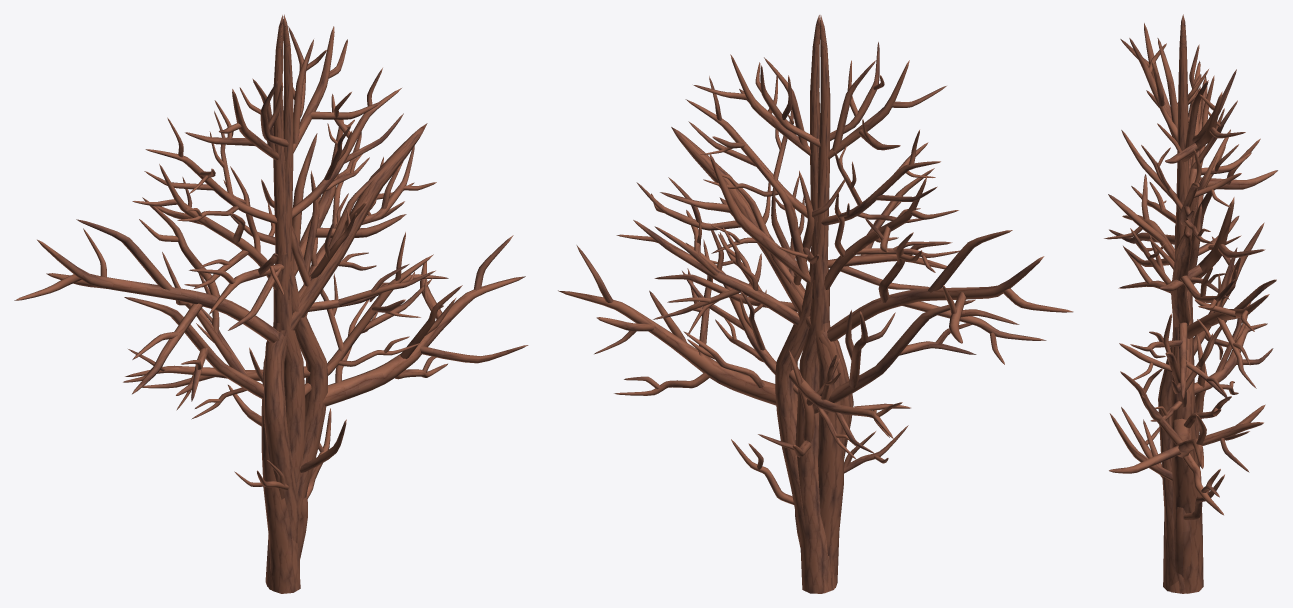
File: dead-trees-1.glb
3 renders of one model, left to right at view 1: azimuth 30°, elevation 25°; view 2: azimuth 150°, elevation 25°; view 3: azimuth 270°, elevation 25°, orthographic.
Parts seen in each view (by area): view 1: DeadTree_2, DeadTree_4, DeadTree_1, DeadTree_3, DeadTree_5; view 2: DeadTree_2, DeadTree_3, DeadTree_1, DeadTree_4, DeadTree_5; view 3: DeadTree_3, DeadTree_2, DeadTree_4, DeadTree_1, DeadTree_5.
Boxes of the visible parts, x1,y1,x2,y2 form: DeadTree_2: (124, 14, 433, 587); DeadTree_4: (14, 123, 448, 590); DeadTree_1: (132, 15, 403, 593); DeadTree_3: (125, 156, 528, 516); DeadTree_5: (228, 347, 346, 558); DeadTree_2: (660, 15, 976, 593); DeadTree_3: (558, 153, 952, 593); DeadTree_1: (685, 15, 959, 587); DeadTree_4: (636, 127, 1073, 593); DeadTree_5: (731, 350, 908, 547); DeadTree_3: (1104, 174, 1276, 593); DeadTree_2: (1118, 15, 1265, 535); DeadTree_4: (1109, 76, 1277, 593); DeadTree_1: (1120, 14, 1251, 592); DeadTree_5: (1109, 334, 1265, 577).
Size of the model in its own units: 5.83 by 6.2 by 1.72.
1 material, 1 textured.
